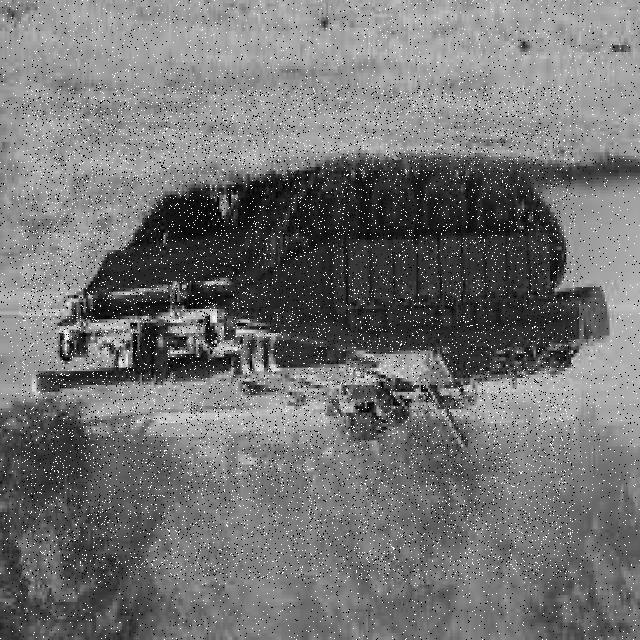MIL_MBT: (22, 86, 575, 579)
